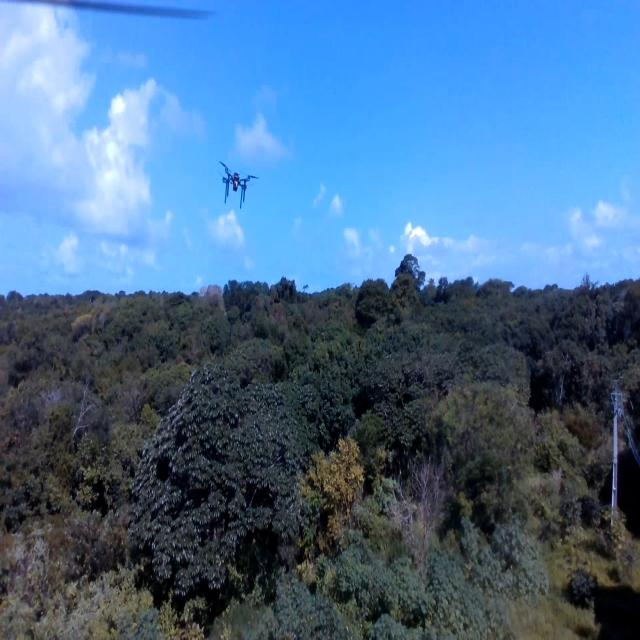-uav-: (214, 156, 260, 216)
